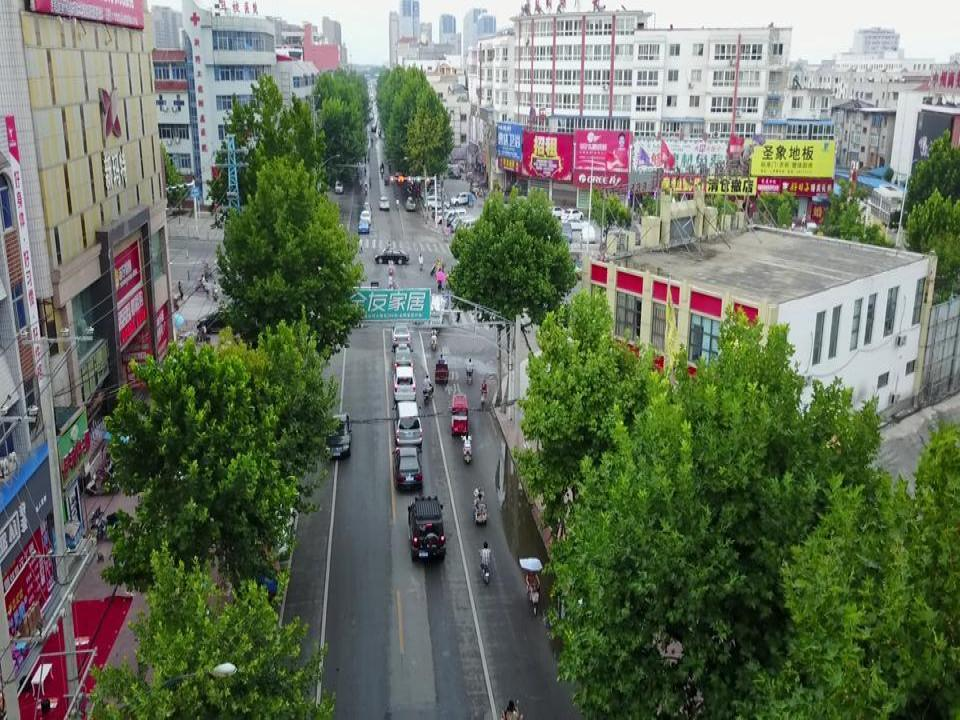car: (407, 495, 446, 561), (258, 495, 295, 560), (196, 306, 250, 334), (322, 412, 352, 460), (392, 446, 423, 490), (545, 262, 584, 282), (391, 343, 413, 372), (391, 322, 411, 350), (374, 248, 409, 264), (560, 216, 589, 232), (435, 209, 461, 224), (446, 213, 472, 228), (602, 227, 623, 245), (431, 208, 459, 221), (449, 192, 473, 207), (625, 223, 641, 245), (424, 196, 450, 209), (804, 222, 818, 246), (422, 192, 447, 205), (579, 224, 596, 243), (560, 208, 584, 221), (559, 221, 573, 243), (545, 205, 566, 219), (420, 187, 442, 200), (423, 184, 444, 195), (357, 218, 369, 234), (361, 202, 372, 219), (359, 211, 372, 225), (404, 196, 416, 211), (378, 196, 389, 211), (469, 182, 481, 195), (448, 170, 462, 178), (369, 113, 374, 120)
truck: (431, 291, 449, 328), (450, 160, 466, 173)
van: (391, 400, 422, 447), (392, 365, 417, 404), (601, 229, 629, 250), (455, 218, 482, 238), (450, 216, 474, 233), (443, 208, 466, 225), (334, 179, 344, 193)
